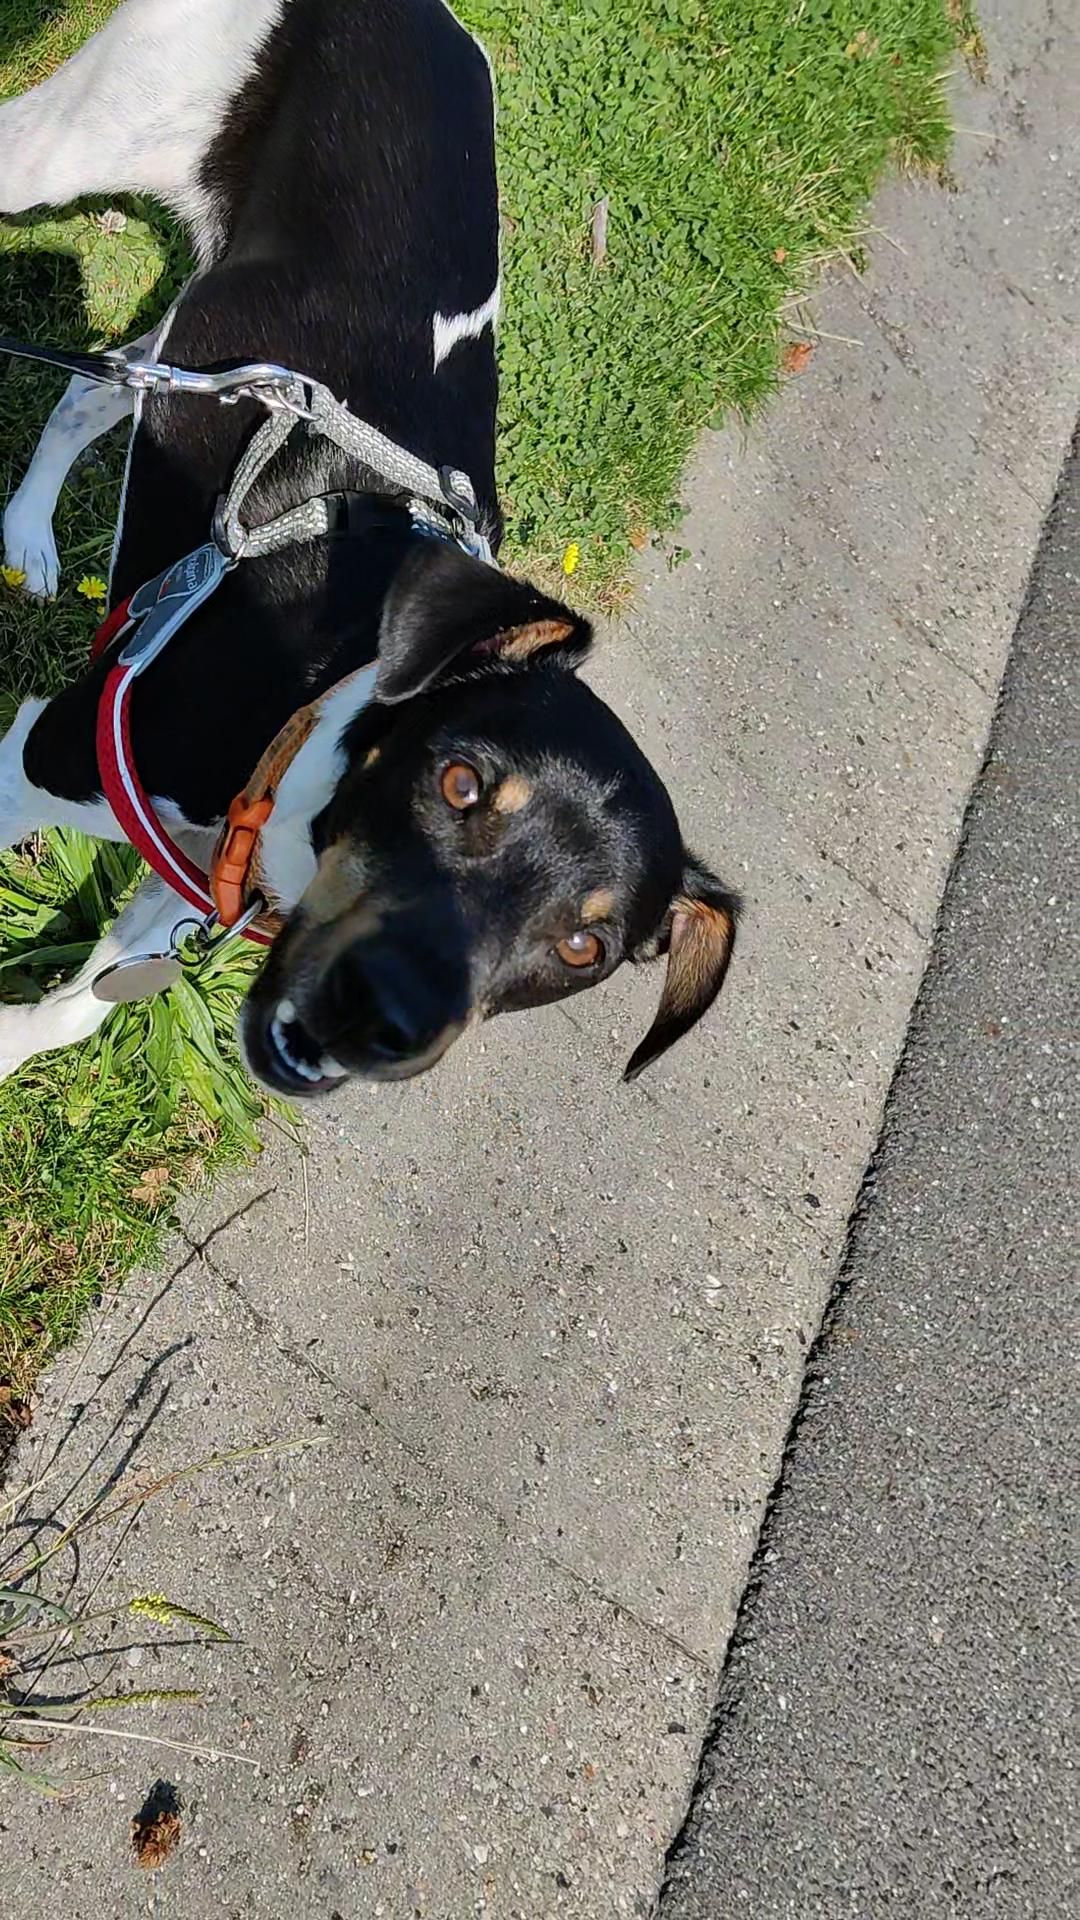Dog: (0, 0, 773, 1131)
